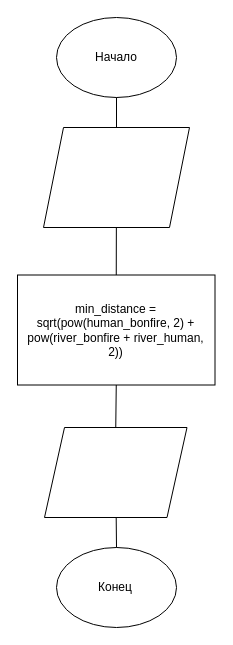
Some shapes in this 233 by 645 pixel diagram are drawn without their labels. Here are the shapes that lost their labels. From the top down, the centre of each, then its label:
At point 116,177: "river_bonfire, river_human, human_bonfire".
At point 115,472: "min_distance".
